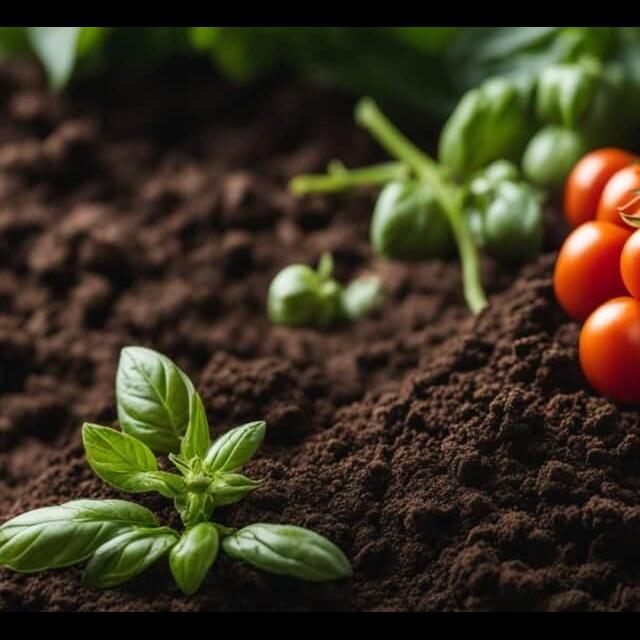food_waste: (0, 366, 339, 612), (407, 348, 633, 604), (0, 139, 142, 359), (279, 369, 404, 523), (499, 168, 622, 298), (541, 471, 640, 612), (572, 274, 640, 398), (616, 222, 640, 297)
